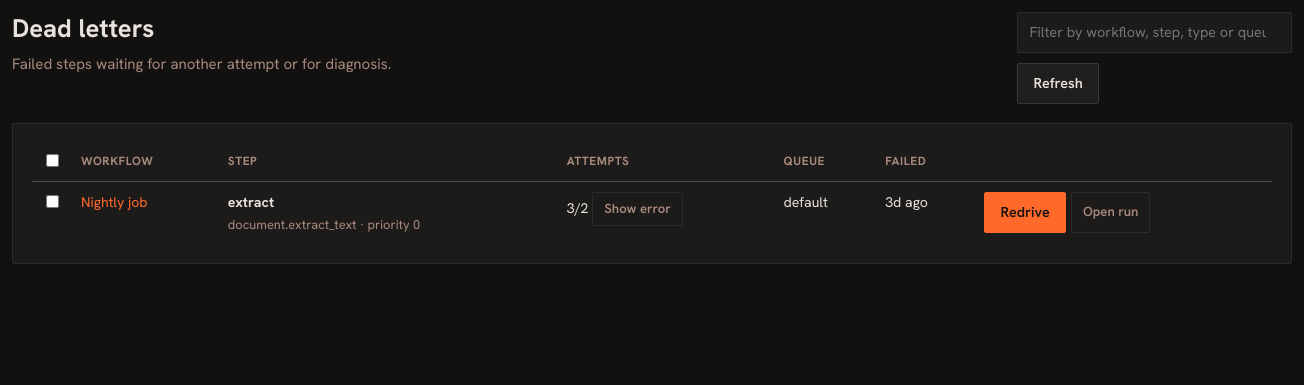
it: DlqPage › shows the stored error details on demand
Click the button "Show error" at (638, 209), box [592,192,683,226]
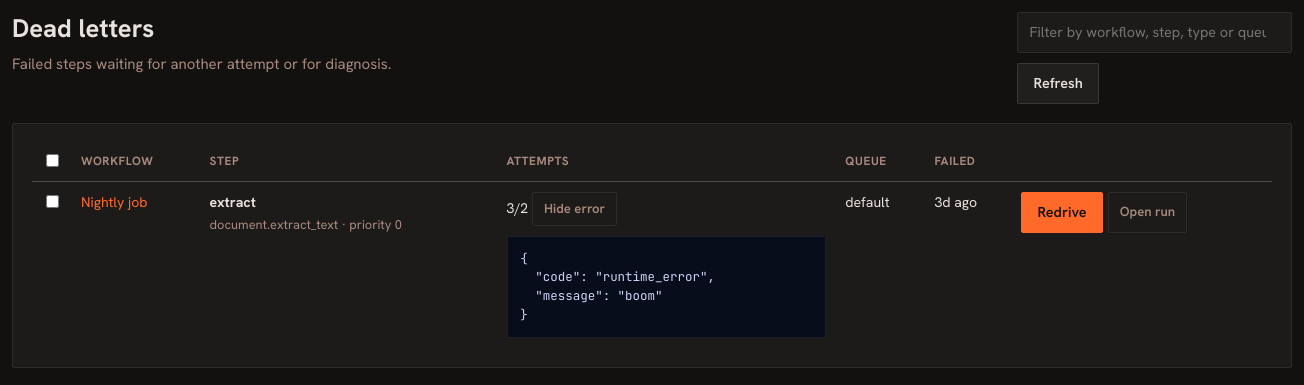
Expected: the text "{ \"code\": \"runtime_error\", \"message\": \"boom\" }" is shown, [506,236,826,338]
